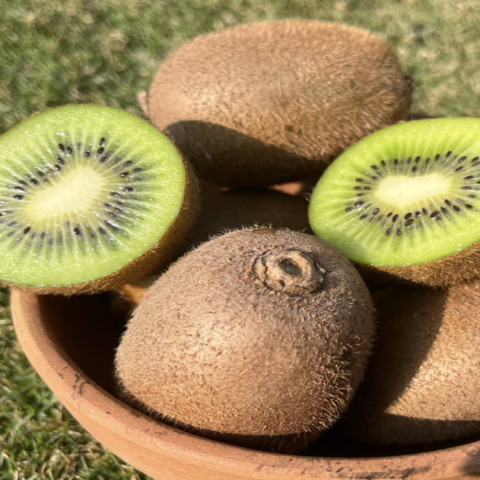kiwi: (104, 190, 391, 459), (120, 15, 418, 194)
